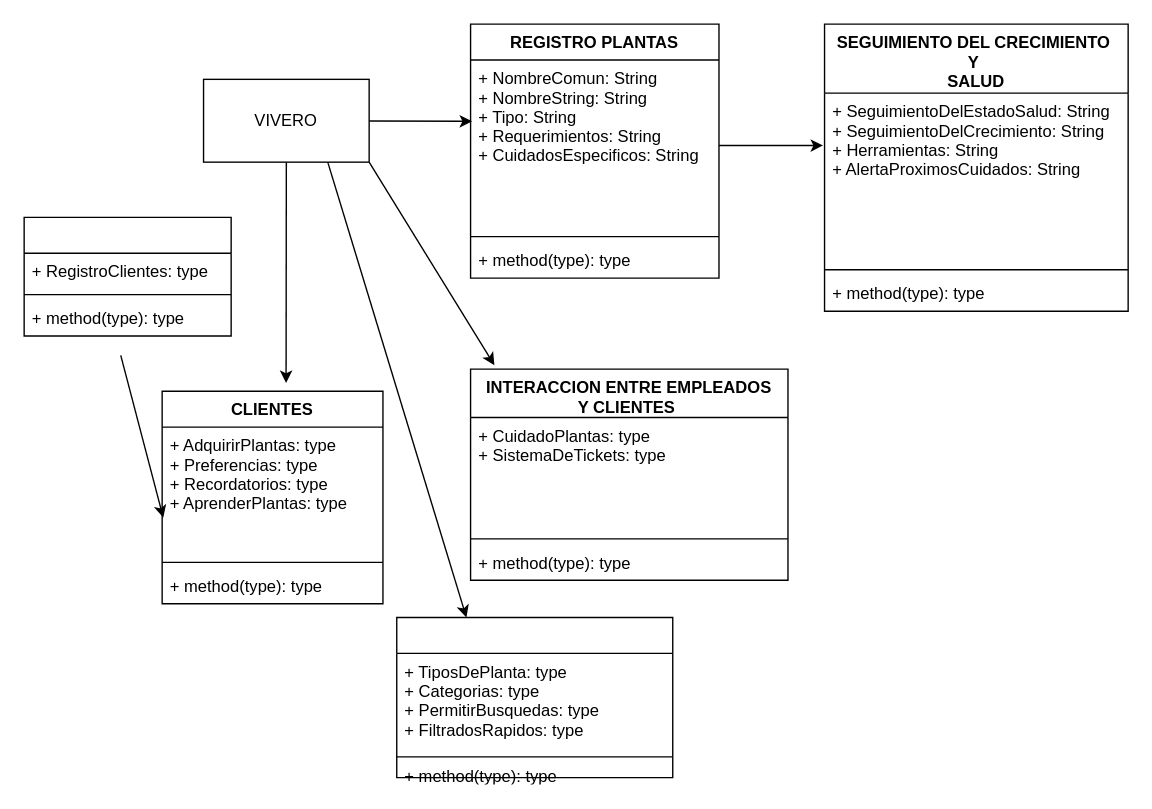
The diagram is 1152 pixels wide and 809 high, and some of its shapes have lost their labels. Here are the shapes that lost their labels. From the top down, the box of each, then its label:
(23, 216, 231, 336): GESTION DE CLIENTES
(395, 616, 673, 778): Tipos de Plantas y Categorización
